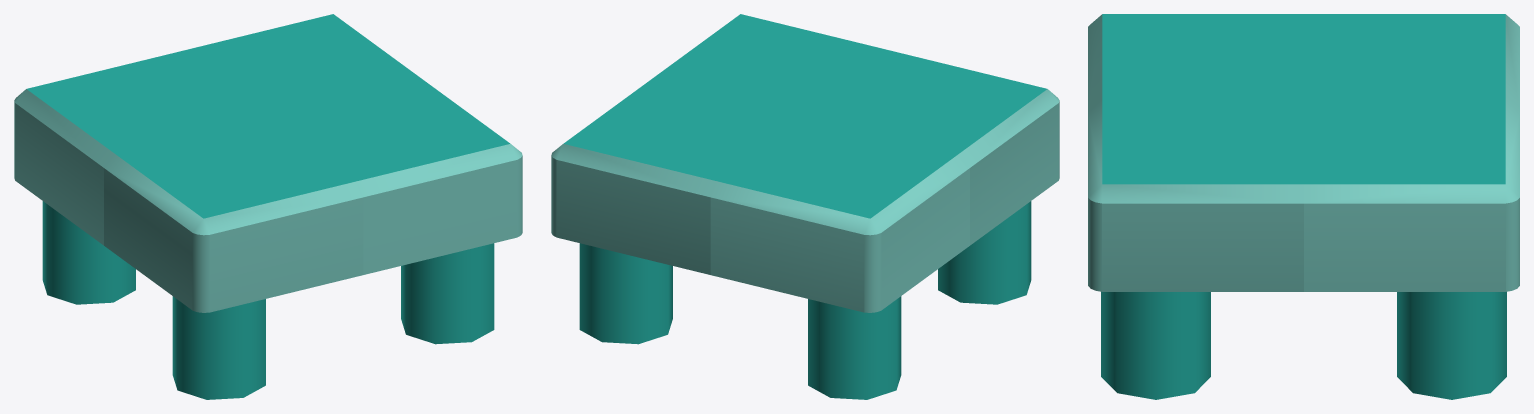
File: Meja 2.FBX
3 renders of one model, left to right at view 1: azimuth 30°, elevation 25°; view 2: azimuth 150°, elevation 25°; view 3: azimuth 270°, elevation 25°, orthographic. The views are drawn at different scales.
Parts seen in each view (by area): view 1: Object001; view 2: Object001; view 3: Object001.
Part boxes in pixels (bbox=[...]): Object001: bbox=[14, 14, 522, 399]; Object001: bbox=[551, 14, 1059, 399]; Object001: bbox=[1088, 14, 1519, 399].
Size of the model in its own units: 69.35 by 37.94 by 69.35.
